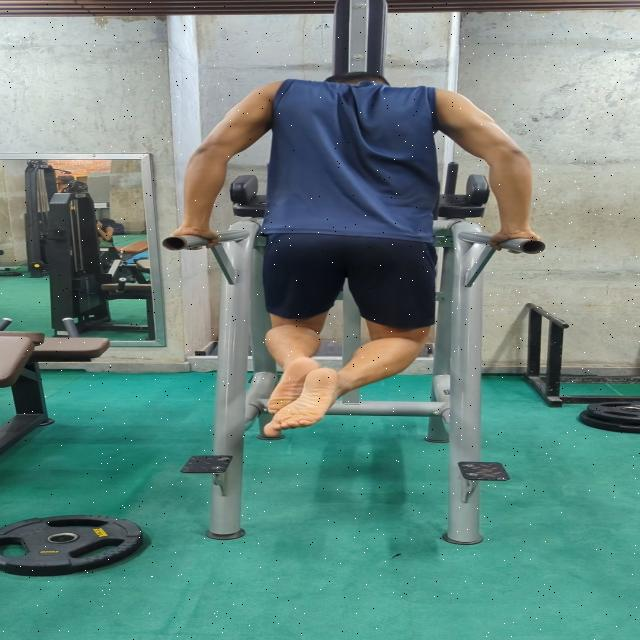Normal_Dips: (142, 64, 554, 448)
